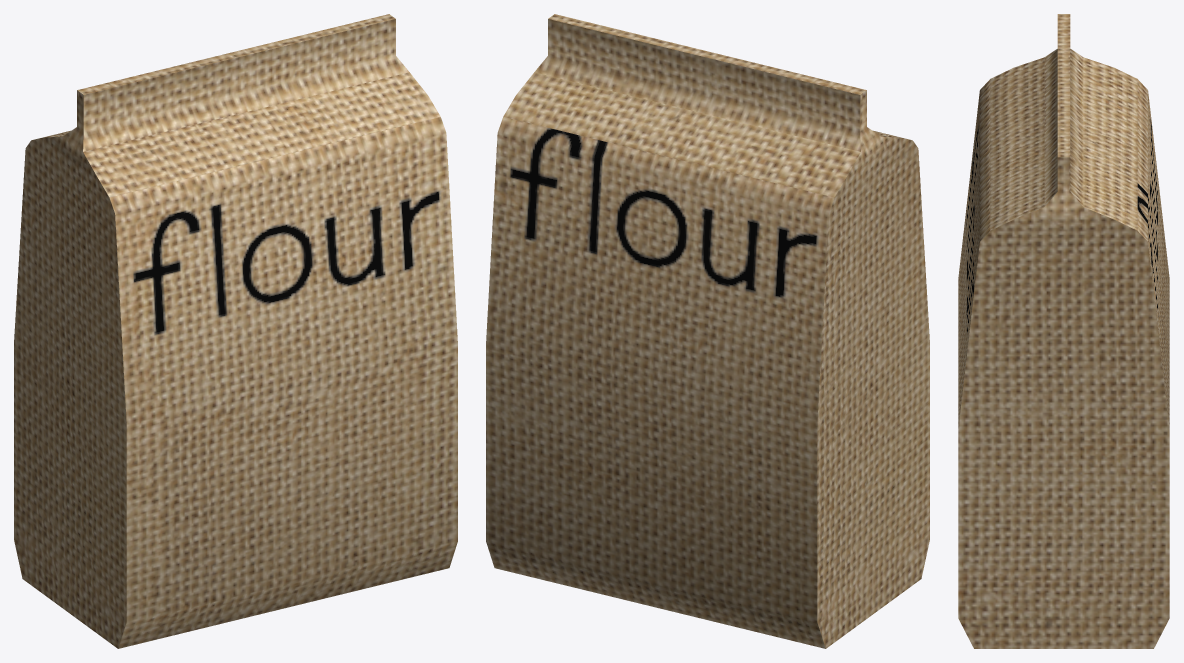
Rendered from bloem.FBX.
3 views of the same model, side by side, from view 1: azimuth 30°, elevation 25°; view 2: azimuth 150°, elevation 25°; view 3: azimuth 270°, elevation 25° (orthographic). The views are drawn at different scales.
Parts seen in each view (by area): view 1: Box001; view 2: Box001; view 3: Box001.
Part boxes in pixels (box(x1,y1,x2,y2)): Box001: box(14, 14, 457, 648); Box001: box(486, 14, 929, 648); Box001: box(958, 14, 1169, 648).
Bounding box in the file's own units: 100 × 150 × 58.76.
